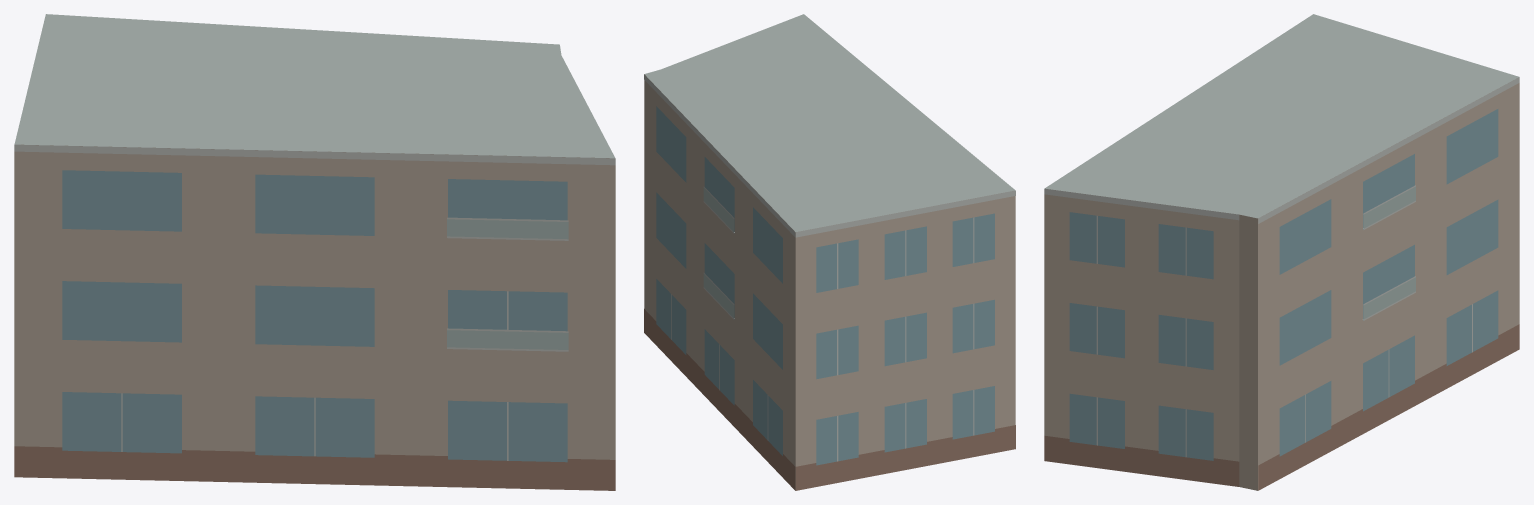
The model's file is survey-upis-32471113.glb.
3 views of the same model, side by side, from view 1: azimuth 30°, elevation 25°; view 2: azimuth 150°, elevation 25°; view 3: azimuth 270°, elevation 25° (orthographic). The views are drawn at different scales.
Visible parts, largest first — view 1: survey-upis-32471113.tmp; view 2: survey-upis-32471113.tmp; view 3: survey-upis-32471113.tmp.
Part boxes in pixels (bbox=[...]): survey-upis-32471113.tmp: bbox=[14, 14, 615, 490]; survey-upis-32471113.tmp: bbox=[644, 14, 1015, 490]; survey-upis-32471113.tmp: bbox=[1044, 14, 1519, 490].
Bounding box in the file's own units: 18.6 × 11.55 × 18.27.
